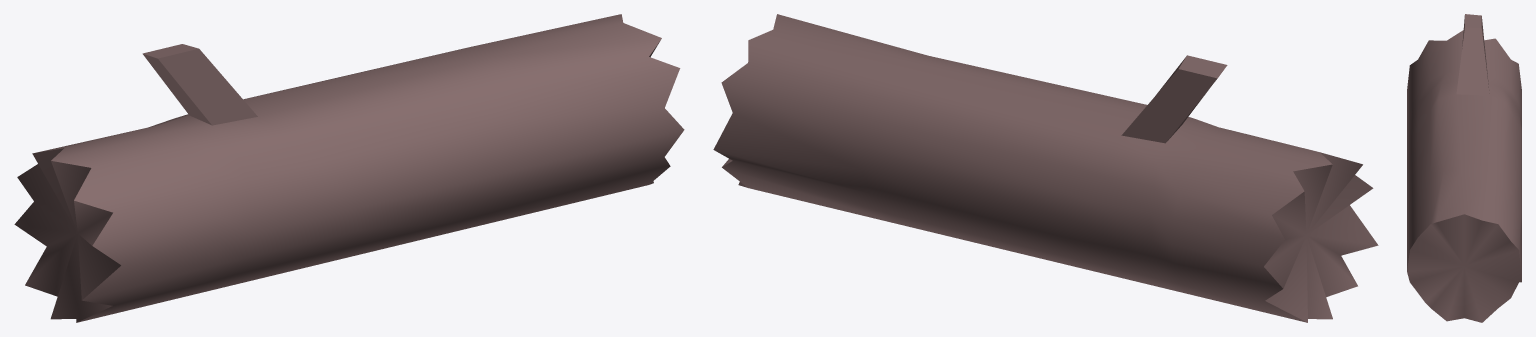
The model's file is Stump.fbx.
The picture shows the model from 3 angles, left to right: view 1: azimuth 30°, elevation 25°; view 2: azimuth 150°, elevation 25°; view 3: azimuth 270°, elevation 25°; orthographic projection. The views are drawn at different scales.
Parts seen in each view (by area): view 1: Stump; view 2: Stump; view 3: Stump.
Boxes of the visible parts, box(x1,y1,x2,y2) form: Stump: box(14, 14, 684, 322); Stump: box(713, 14, 1378, 322); Stump: box(1407, 14, 1521, 322).
Bounding box in the file's own units: 7.96 × 2.98 × 2.
